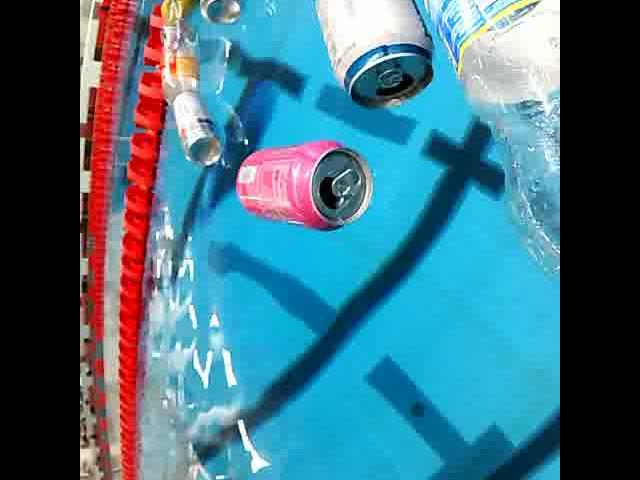Bottle: (414, 0, 560, 290), (156, 15, 198, 112)
Can: (297, 0, 440, 121), (233, 135, 379, 232), (170, 85, 228, 169), (154, 0, 204, 28), (197, 0, 245, 28)
